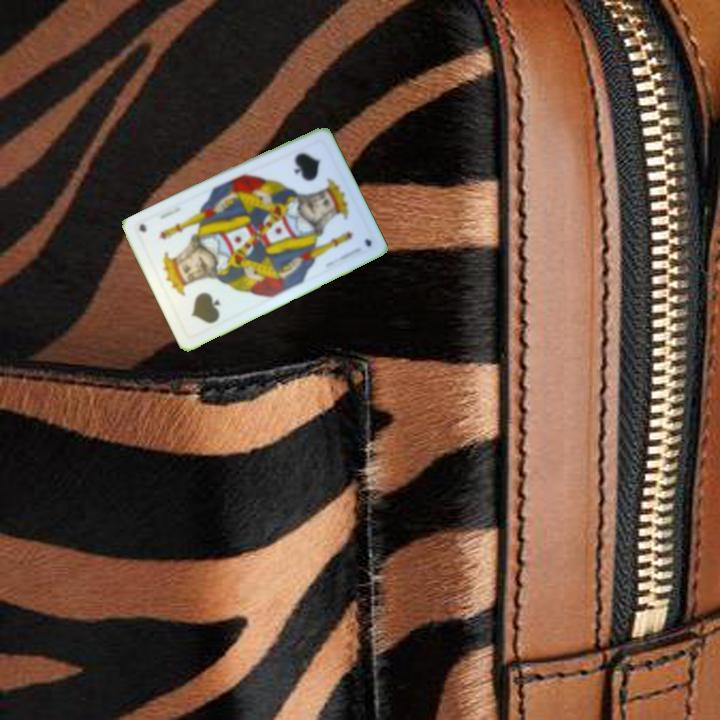s_k.png: (159, 256, 239, 340), (269, 134, 349, 217)
